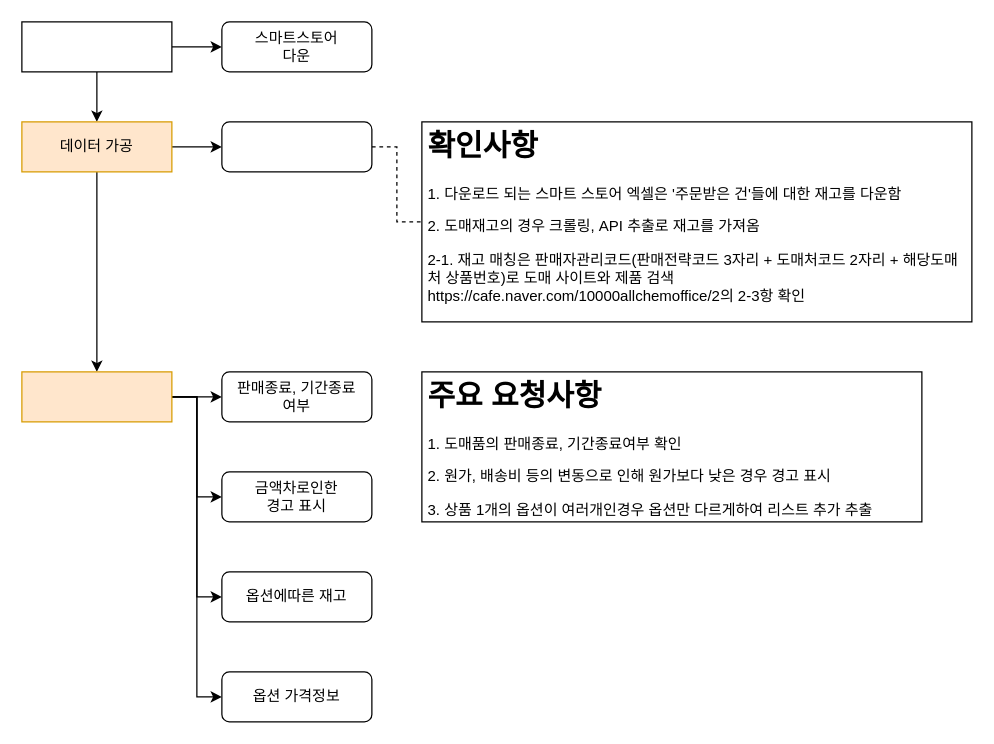
The diagram is 994 pixels wide and 744 high, and some of its shapes have lost their labels. Each missing label, with the centre of its shape:
기존 Python 가공 진행중: the point at 296,146
재고확인: the point at 96,396
전산재고정보 가져오기: the point at 96,46
